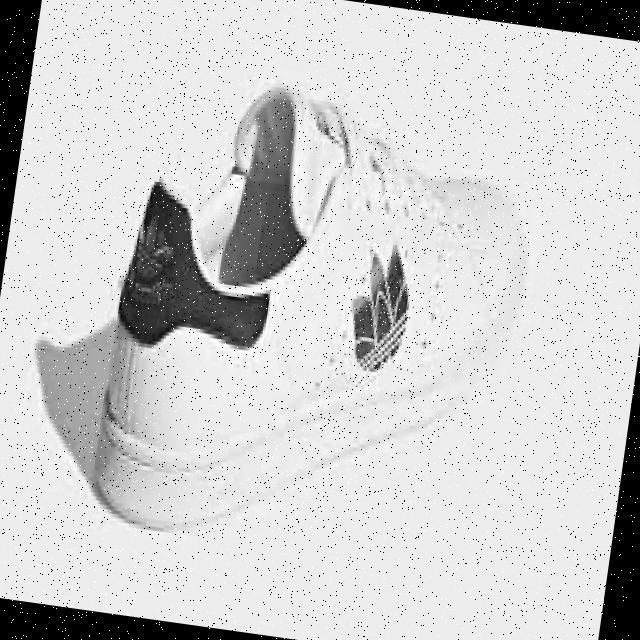Adidas: (331, 236, 431, 400), (120, 198, 190, 297)
